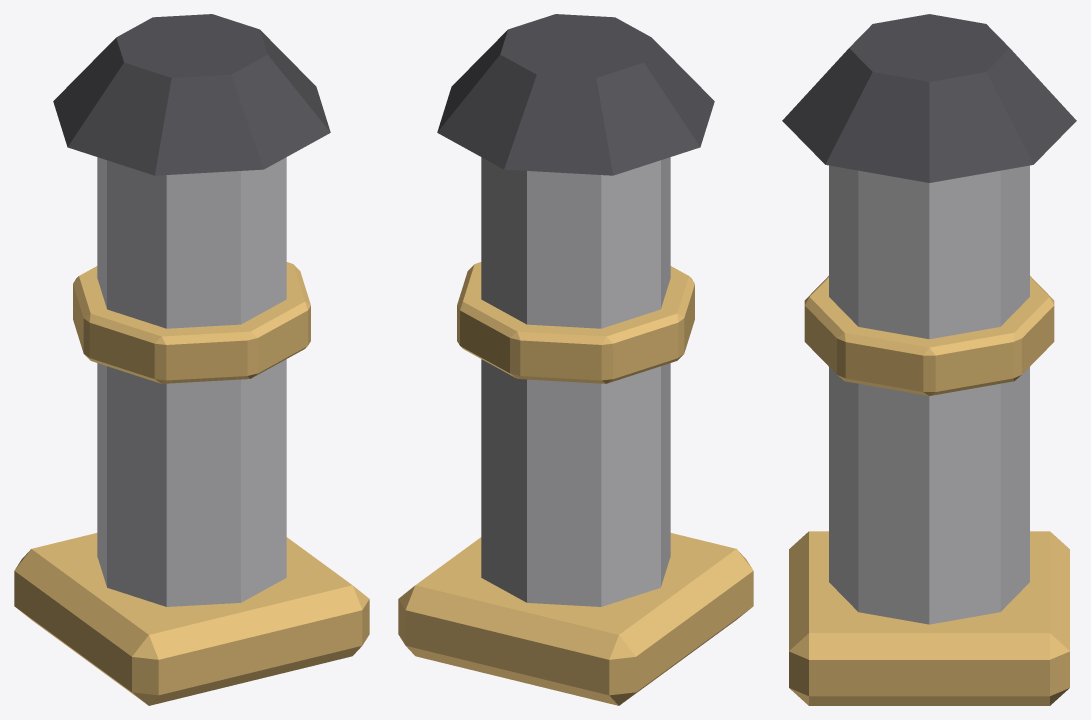
File: CO_Top_Chimney.fbx
The picture shows the model from 3 angles, left to right: view 1: azimuth 30°, elevation 25°; view 2: azimuth 150°, elevation 25°; view 3: azimuth 270°, elevation 25°; orthographic projection. The views are drawn at different scales.
Parts seen in each view (by area): view 1: CO_Top_Chimney; view 2: CO_Top_Chimney; view 3: CO_Top_Chimney.
Part boxes in pixels (x1=…): CO_Top_Chimney: x1=14, y1=14, x2=369, y2=705; CO_Top_Chimney: x1=398, y1=14, x2=753, y2=705; CO_Top_Chimney: x1=782, y1=14, x2=1076, y2=705.
Bounding box in the file's own units: 0.44 × 1 × 0.44.
